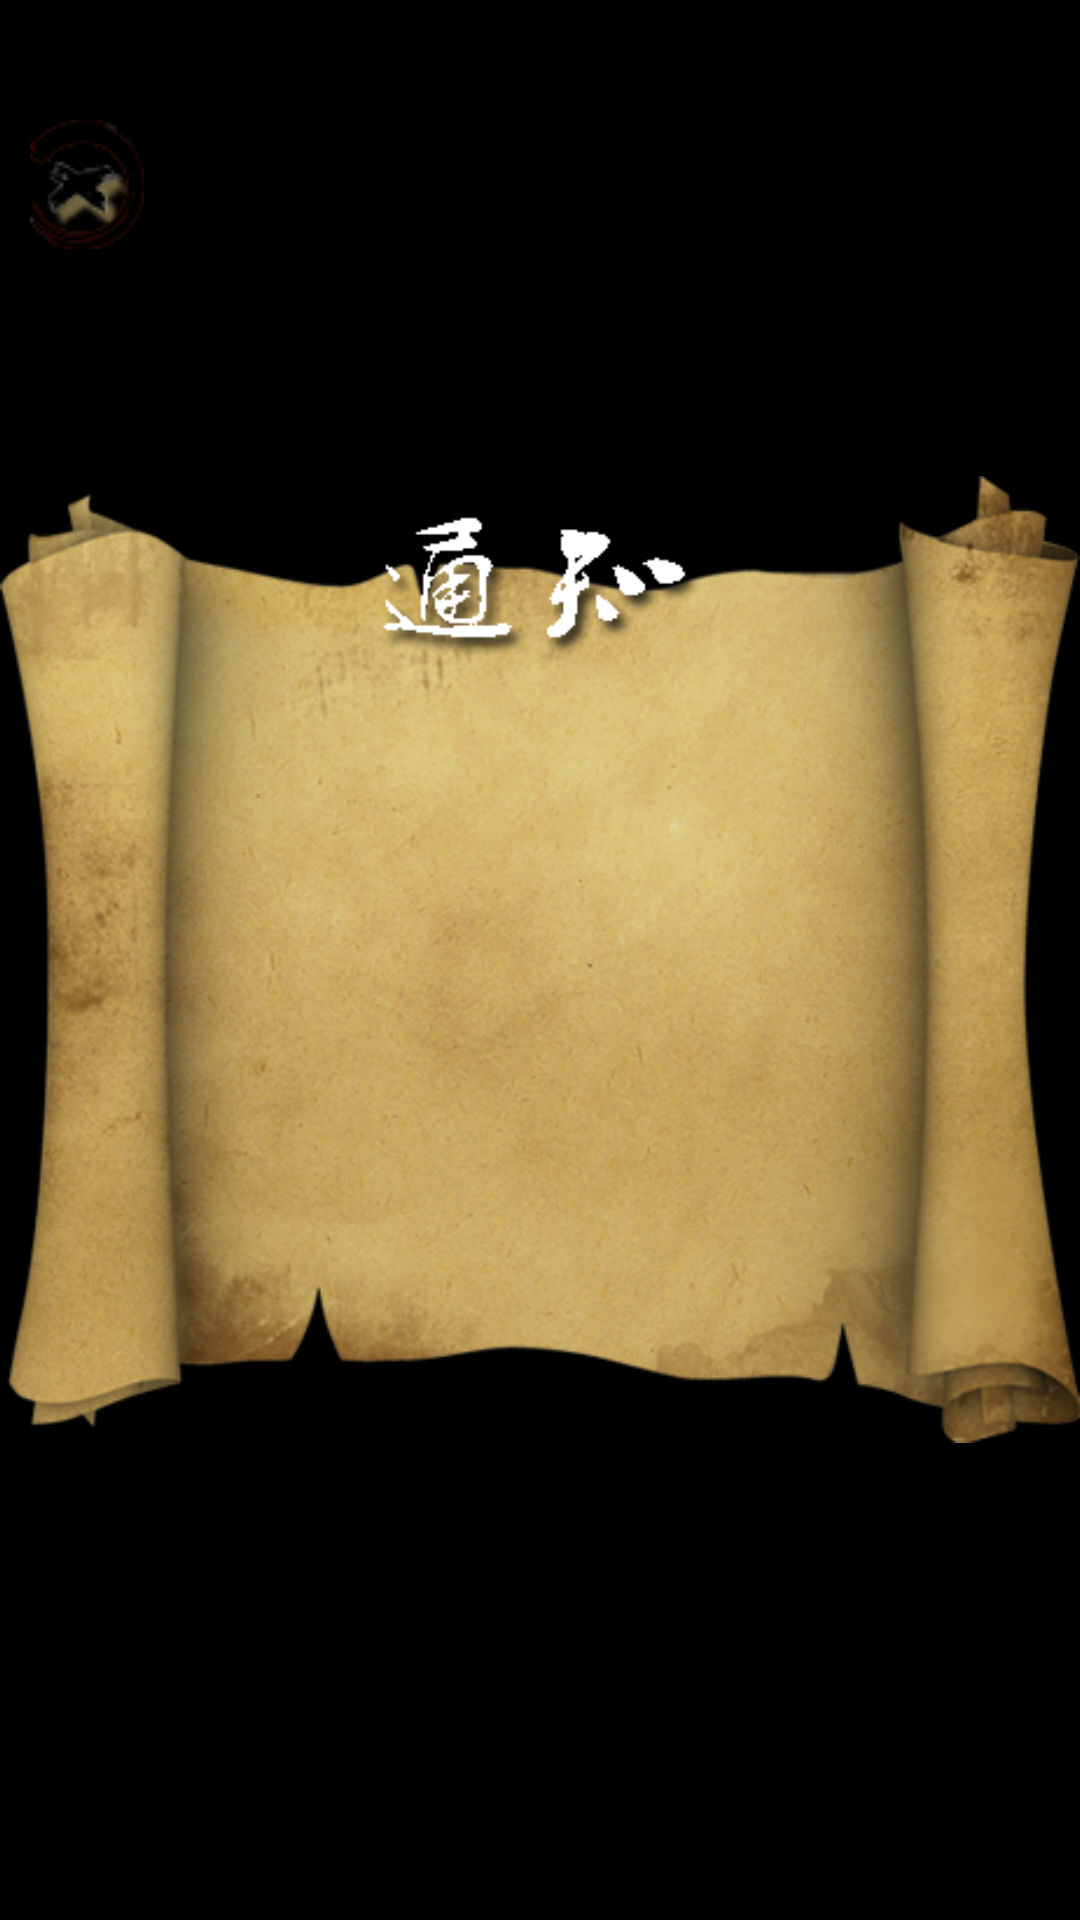

Screen size 1080 x 1920. Icon name, then its center in pixels as (x=x, y=y):
closewin: (x=87, y=184)
